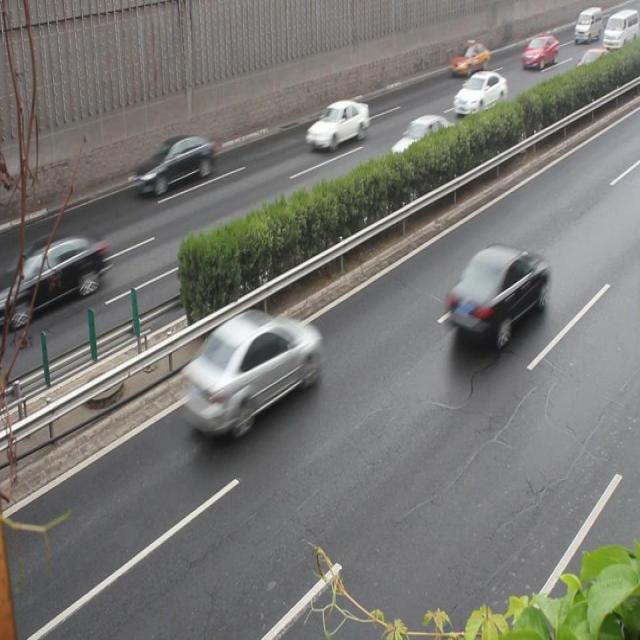car: (185, 310, 319, 431), (446, 241, 550, 349), (1, 234, 108, 324), (129, 133, 216, 199), (306, 97, 369, 153), (392, 113, 456, 168), (453, 74, 505, 118), (450, 42, 490, 77)
